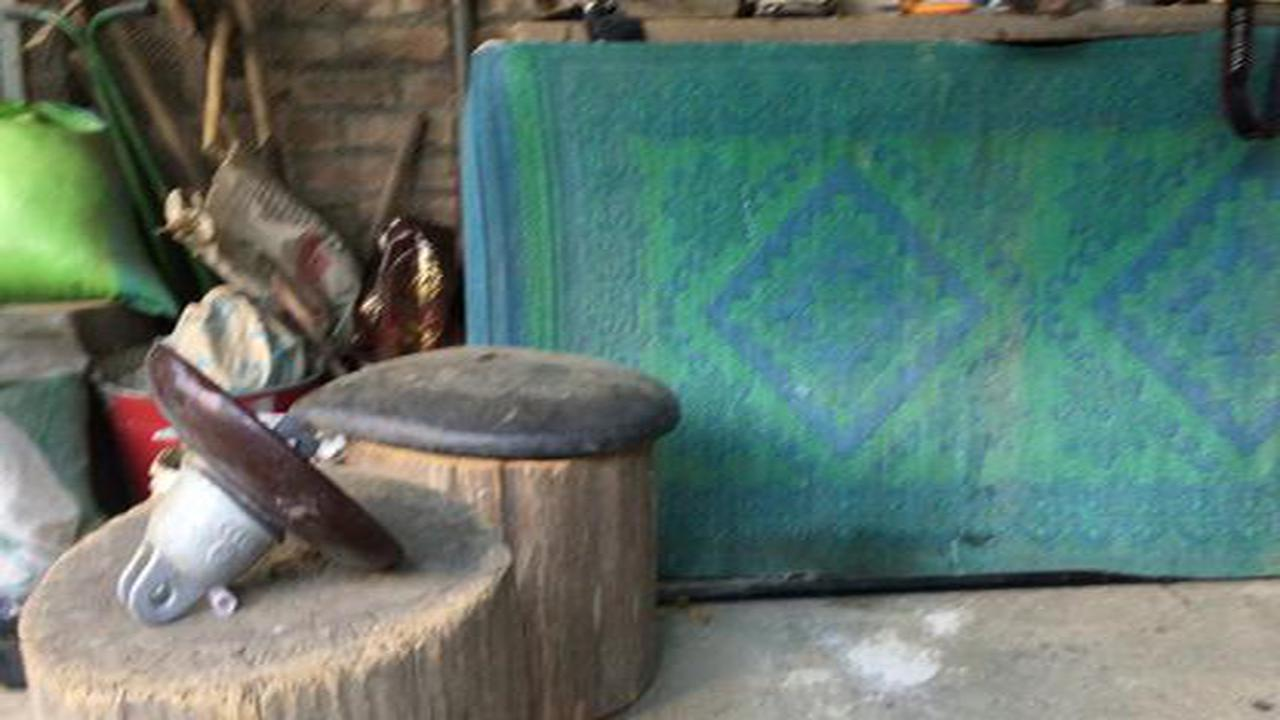insulator_disc: (121, 334, 416, 614)
